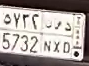2: (29, 13, 39, 53)
3: (20, 14, 30, 52)
5: (2, 13, 12, 50)
7: (11, 12, 21, 51)
D: (63, 21, 72, 54)
N: (44, 19, 53, 52)
X: (53, 20, 62, 53)
